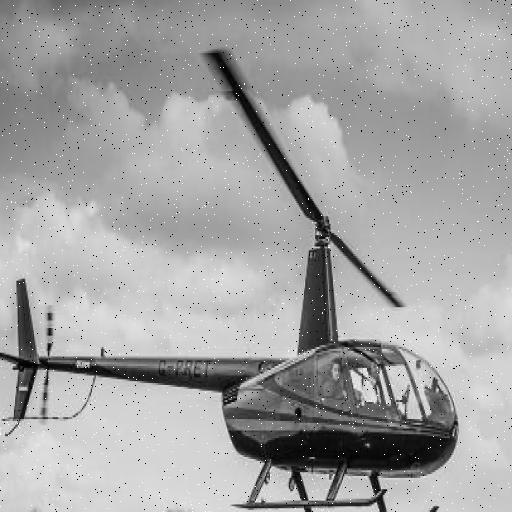helicopter: (1, 42, 469, 512)
